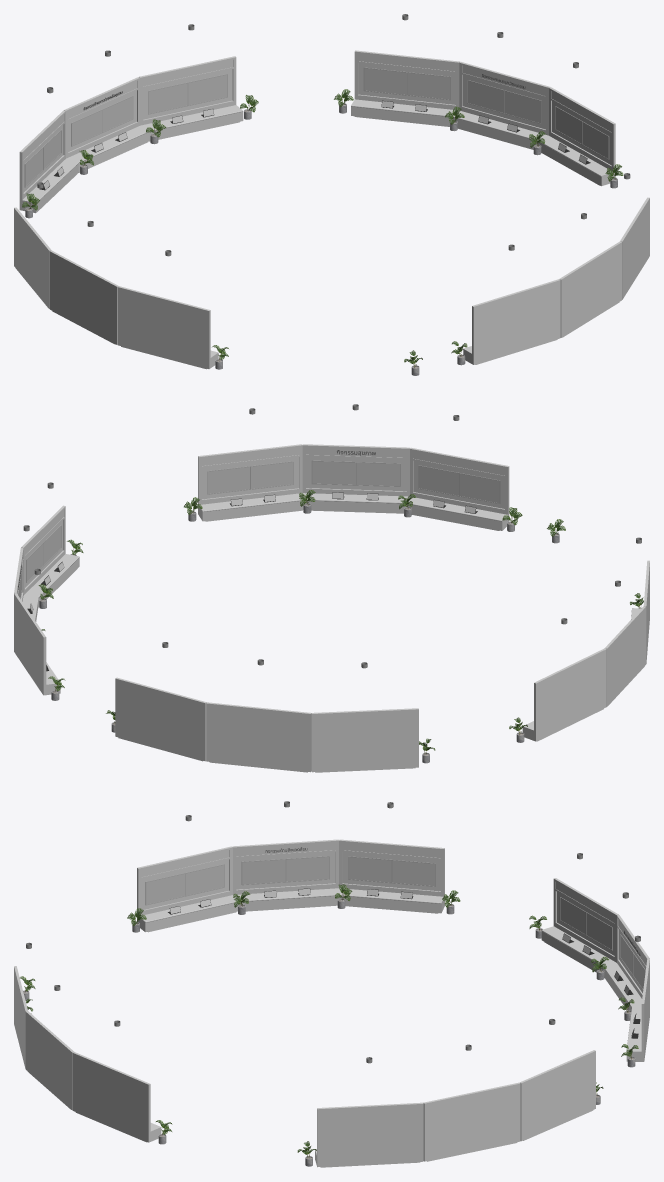
Rendered from PublicServices_NewBoards.fbx.
3 views of the same model, one above another, from view 1: azimuth 30°, elevation 25°; view 2: azimuth 150°, elevation 25°; view 3: azimuth 270°, elevation 25° (orthographic).
Visible parts, largest first — view 1: Board_E.007, Board_E.006, Board_E.003, Board_E.002, Board_E.008, Board_E.004, Board_E.012, Board_E.001, Board_E.005, Board_E, Board_E.009, Board_E.011 (+10 smaller); view 2: Board_E, Board_E.001, Board_E.002, Board_E.011, Board_E.012, Board_E.006, Board_E.009, Board_E.008, Board_E.005, Board_E.003, Image_PublicServices.024, Image_PublicServices.025 (+5 smaller); view 3: Board_E.005, Board_E.004, Board_E.011, Board_E.009, Board_E.008, Board_E.003, Board_E.007, Board_E, Board_E.012, Board_E.001, Board_E.002, Image_PublicServices.016 (+8 smaller).
Boxes of the visible parts, x1,y1,x2,y2 form: Board_E.007: (117, 286, 218, 369); Board_E.006: (463, 279, 560, 364); Board_E.003: (351, 50, 459, 126); Board_E.002: (139, 56, 243, 141); Board_E.008: (49, 250, 118, 344); Board_E.004: (453, 61, 549, 149); Board_E.012: (559, 241, 621, 337); Board_E.001: (64, 77, 149, 172); Board_E.005: (538, 87, 615, 186); Board_E: (19, 110, 79, 213); Board_E.009: (14, 207, 51, 308); Board_E.011: (620, 197, 649, 299); Board_E: (311, 708, 418, 772); Board_E.001: (206, 702, 311, 772); Board_E.002: (115, 677, 206, 761); Board_E.011: (198, 444, 304, 521); Board_E.012: (302, 444, 409, 513); Board_E.006: (406, 447, 509, 530); Board_E.009: (522, 648, 606, 741); Board_E.008: (604, 606, 646, 706); Board_E.005: (21, 505, 79, 607); Board_E.003: (14, 593, 60, 695); Image_PublicServices.024: (356, 462, 400, 486); Image_PublicServices.025: (312, 461, 355, 484); Board_E.005: (315, 1102, 423, 1167); Board_E.004: (423, 1082, 520, 1161); Board_E.011: (72, 1052, 161, 1142); Board_E.009: (336, 839, 444, 913); Board_E.008: (232, 839, 340, 911); Board_E.003: (520, 1050, 595, 1141); Board_E.007: (137, 846, 237, 932); Board_E: (541, 878, 618, 972); Board_E.012: (25, 1011, 74, 1110); Board_E.001: (603, 915, 649, 1010); Board_E.002: (626, 958, 649, 1061); Image_PublicServices.016: (286, 857, 329, 881).
Bounding box in the file's own units: 3952 × 702 × 3925.
